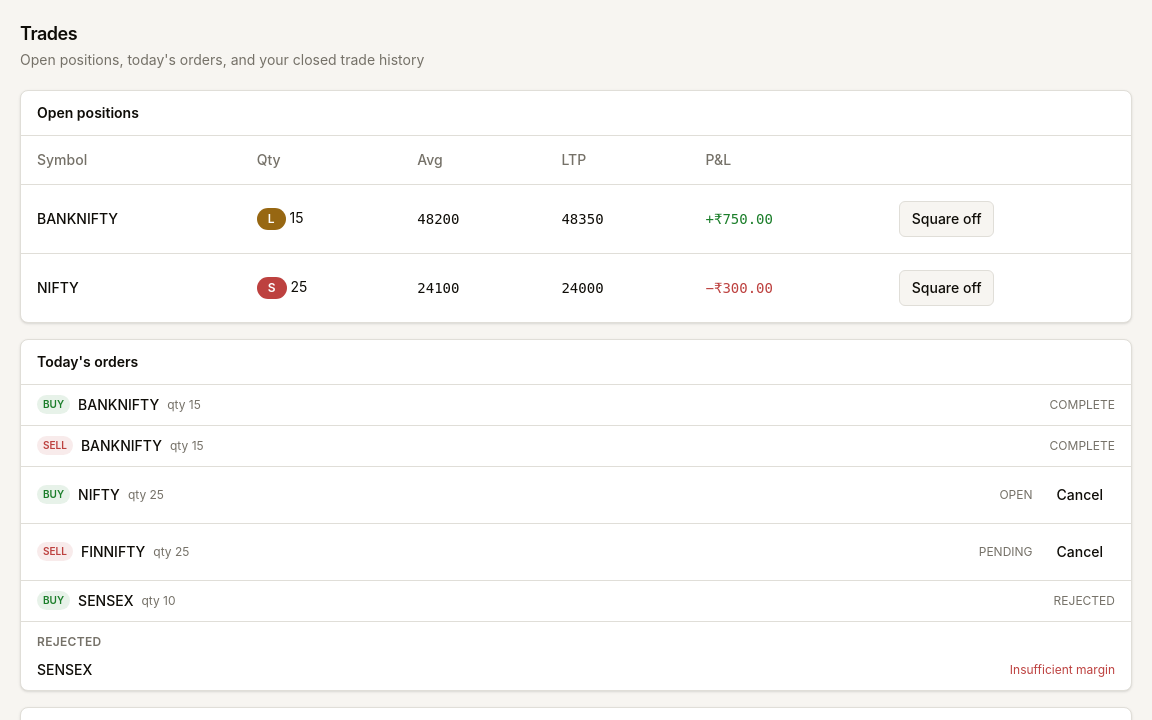
Test: TradesPage › keeps the dialog open and shows an error when square-off fails, instead of silently closing
Click the button "Square off" in the row of "48200": point(947, 218) [899,200,994,236]
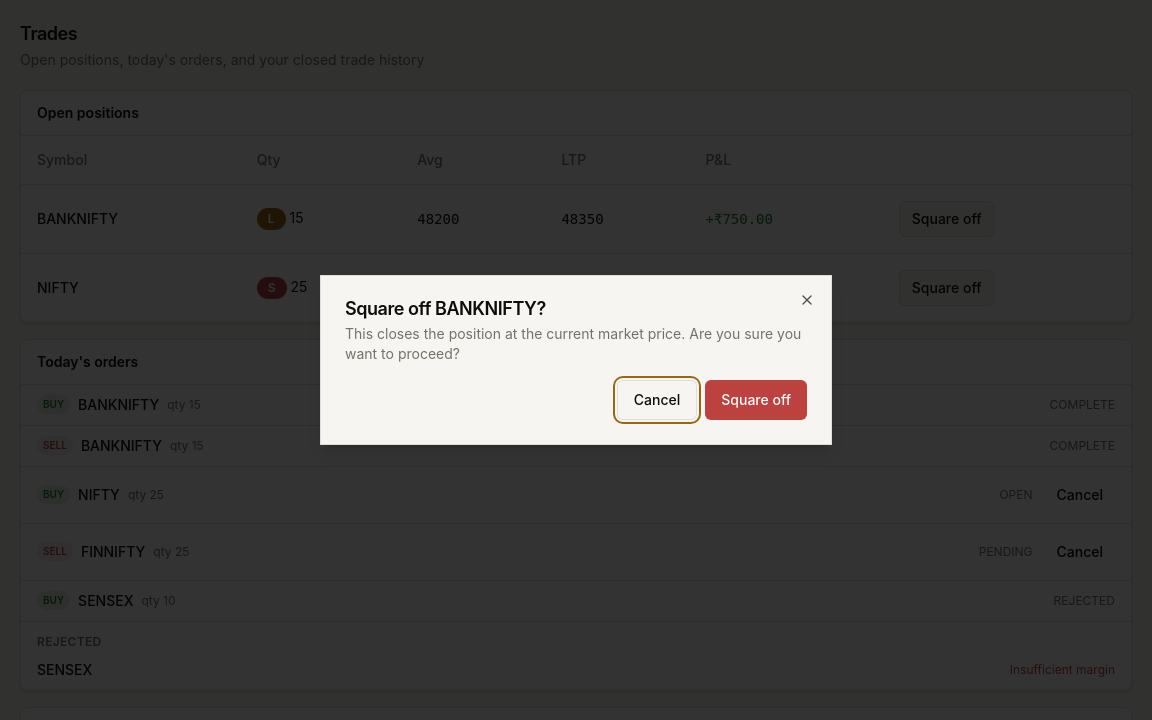
Click the button "Square off": point(756, 400) [705,380,807,420]
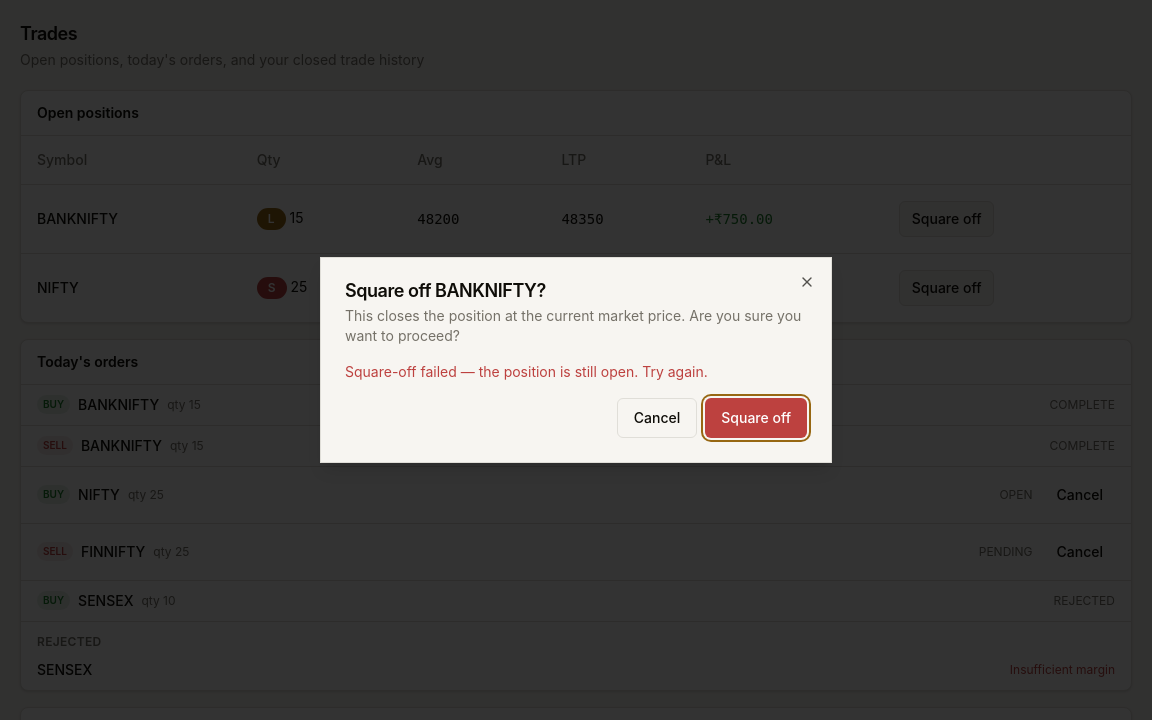
Check: the text "Are you sure" is shown, box [345,307,801,344]
Check: the text "Square-off failed — the position is still open. Try again." is shown, box [345,363,708,380]
